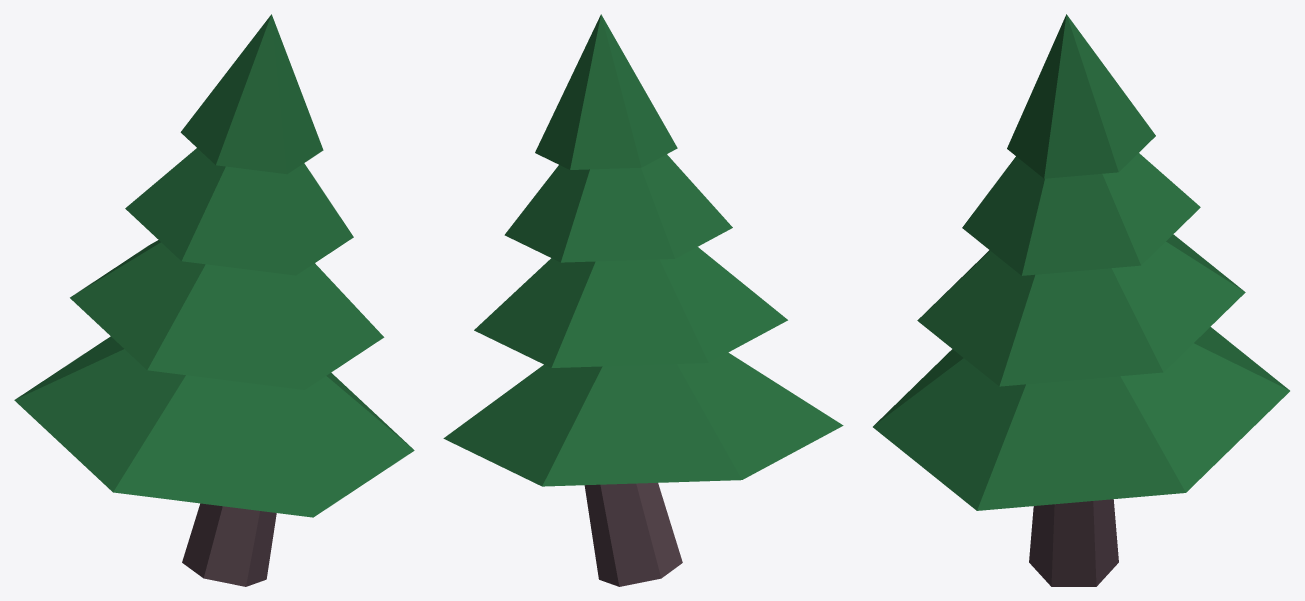
Rendered from twisted_pine.glb.
3 views of the same model, side by side, from view 1: azimuth 30°, elevation 25°; view 2: azimuth 150°, elevation 25°; view 3: azimuth 270°, elevation 25° (orthographic). The views are drawn at different scales.
Visible parts, largest first — view 1: twisted_pine; view 2: twisted_pine; view 3: twisted_pine.
Part boxes in pixels (x1=…): twisted_pine: x1=14, y1=14, x2=414, y2=586; twisted_pine: x1=443, y1=14, x2=843, y2=586; twisted_pine: x1=873, y1=14, x2=1289, y2=586.
Size of the model in its own units: 2.43 by 4.26 by 2.79.
